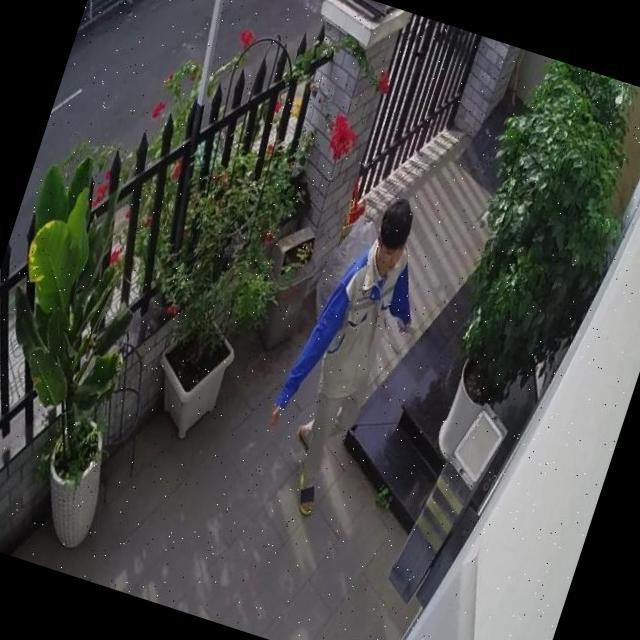person: (245, 178, 446, 518)
